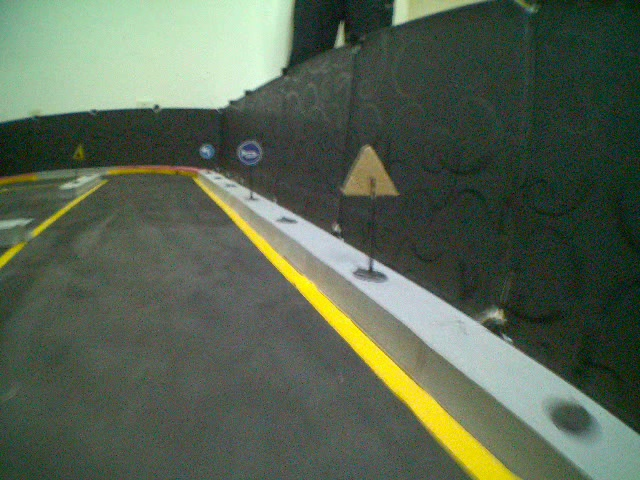fast: (72, 140, 86, 162)
horn: (237, 138, 263, 168)
turn: (199, 141, 216, 160)
